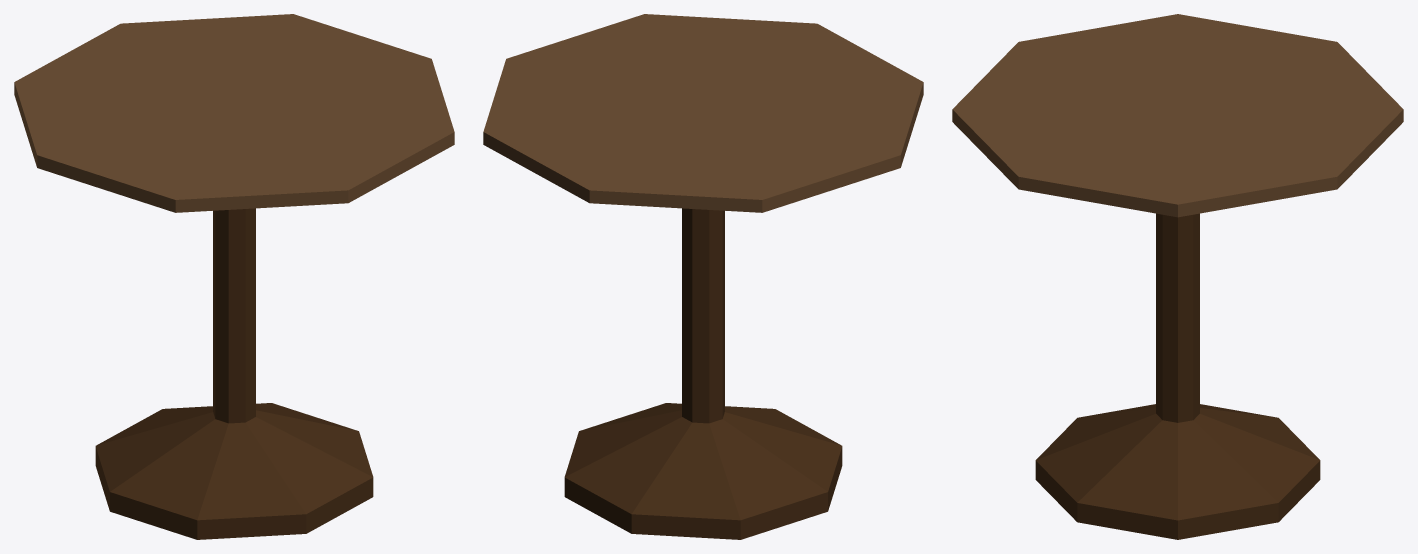
File: roundTable.obj
The picture shows the model from 3 angles, left to right: view 1: azimuth 30°, elevation 25°; view 2: azimuth 150°, elevation 25°; view 3: azimuth 270°, elevation 25°; orthographic projection.
Visible parts, largest first — view 1: table2; view 2: table2; view 3: table2.
Boxes of the visible parts, x1=… form: table2: x1=14, y1=14, x2=454, y2=539; table2: x1=483, y1=14, x2=923, y2=539; table2: x1=952, y1=14, x2=1403, y2=539.
Bounding box in the file's own units: 154 × 140 × 154.
